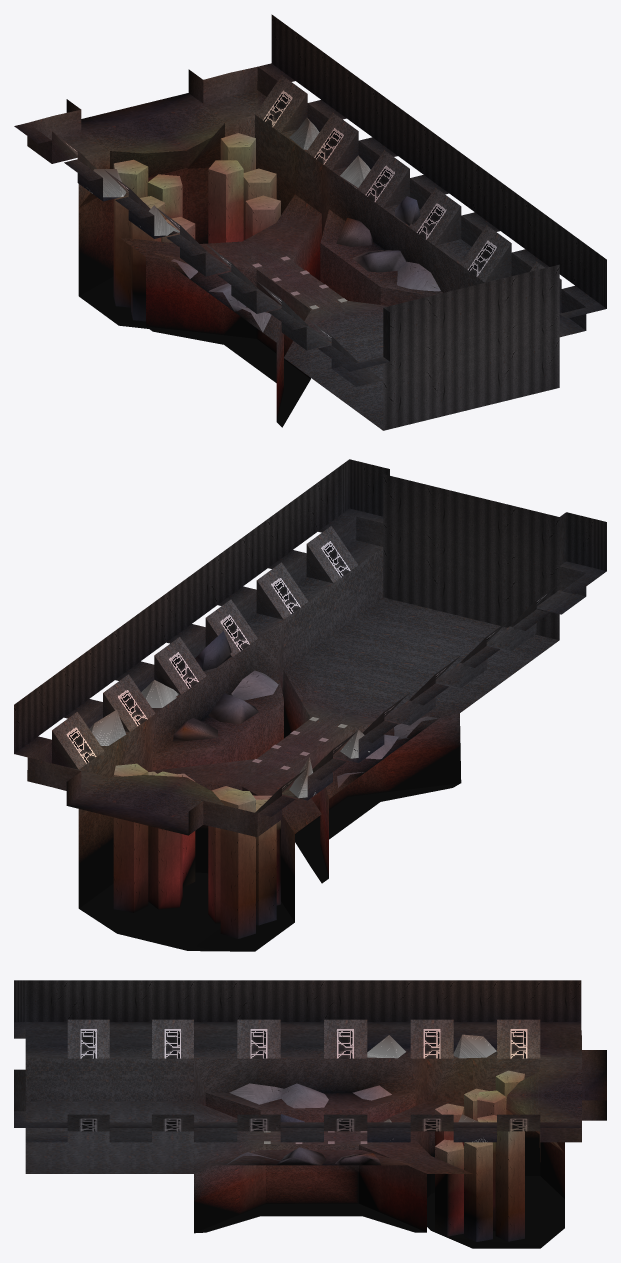
File: level.gltf
3 views of the same model, one above another, from view 1: azimuth 30°, elevation 25°; view 2: azimuth 150°, elevation 25°; view 3: azimuth 270°, elevation 25° (orthographic). The views are drawn at different scales.
Visible parts, largest first — view 1: Ground.001, Ground.002, Ground.003; view 2: Ground.001, Ground.002, Ground.003; view 3: Ground.001, Ground.002, Ground.003.
Boxes of the visible parts, x1=… form: Ground.001: x1=14, y1=14, x2=606, y2=430; Ground.002: x1=171, y1=196, x2=440, y2=332; Ground.003: x1=89, y1=117, x2=370, y2=235; Ground.001: x1=14, y1=459, x2=606, y2=951; Ground.002: x1=173, y1=631, x2=438, y2=787; Ground.003: x1=89, y1=680, x2=369, y2=798; Ground.001: x1=14, y1=980, x2=606, y2=1248; Ground.002: x1=227, y1=1083, x2=391, y2=1165; Ground.003: x1=367, y1=1034, x2=496, y2=1142.
Size of the model in its own units: 3.88 by 3.07 by 9.15.
7 materials, 5 textured.
